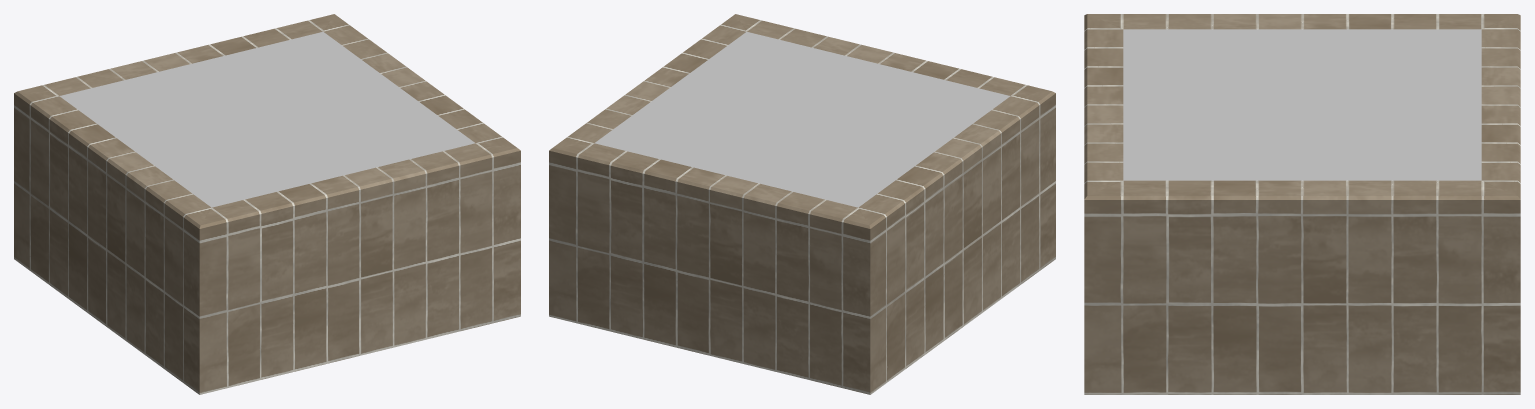
The model's file is PlatformStack.fbx.
3 renders of one model, left to right at view 1: azimuth 30°, elevation 25°; view 2: azimuth 150°, elevation 25°; view 3: azimuth 270°, elevation 25°, orthographic. The views are drawn at different scales.
Visible parts, largest first — view 1: PlatformStack; view 2: PlatformStack; view 3: PlatformStack.
Part boxes in pixels (x1,y1,x2,y2): PlatformStack: [14, 14, 520, 394]; PlatformStack: [549, 14, 1055, 394]; PlatformStack: [1084, 14, 1520, 394].
Bounding box in the file's own units: 300 × 150 × 300.
